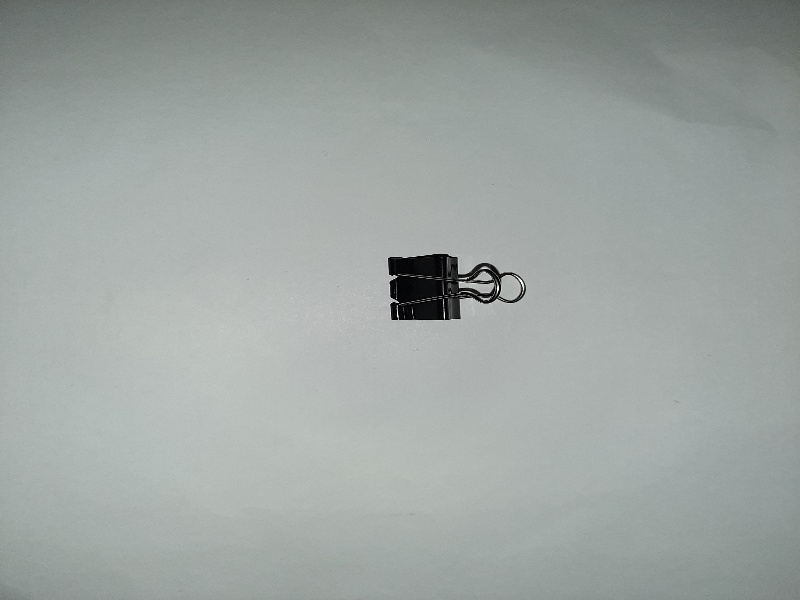Big Paperclip: (374, 242, 535, 329)
